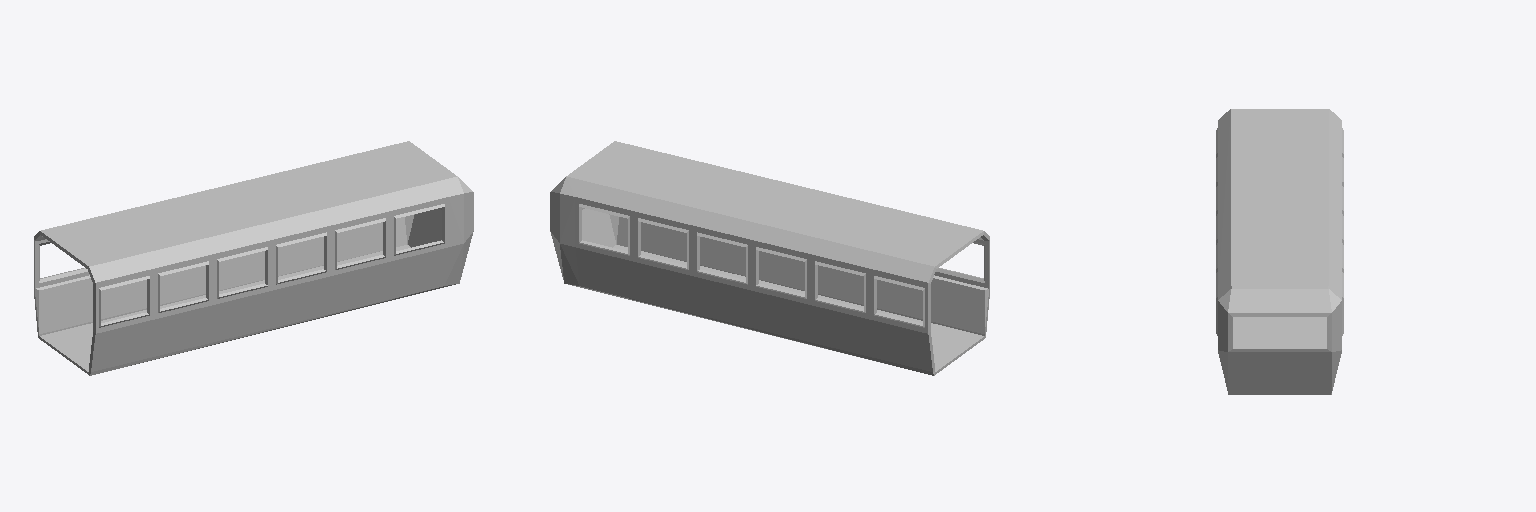
File: train_cart.obj
The picture shows the model from 3 angles: view 1: azimuth 30°, elevation 25°; view 2: azimuth 150°, elevation 25°; view 3: azimuth 270°, elevation 25°; orthographic projection.
Parts seen in each view (by area): view 1: Cart_Plane.004; view 2: Cart_Plane.004; view 3: Cart_Plane.004.
Part boxes in pixels (x1,y1,x2,y2): Cart_Plane.004: (34,141,473,375); Cart_Plane.004: (550,141,989,375); Cart_Plane.004: (1216,109,1343,394).
Bounding box in the file's own units: 19.44 × 5.23 × 5.63.